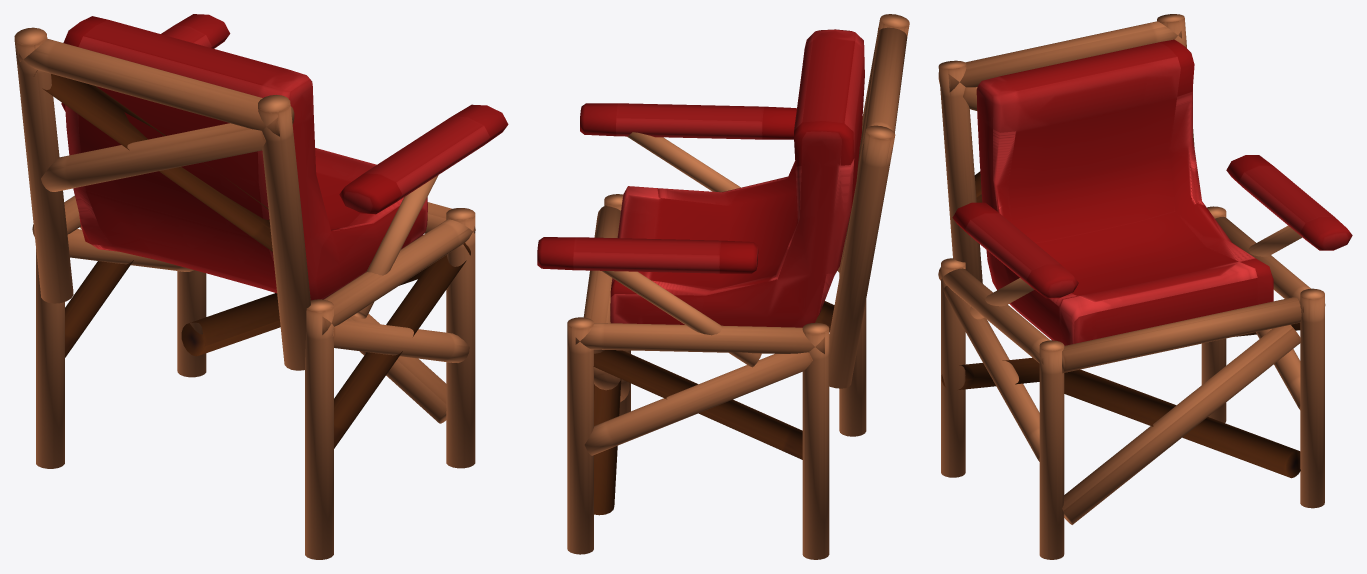
File: firewoodchairfinal.fbx
The picture shows the model from 3 angles, left to right: view 1: azimuth 30°, elevation 25°; view 2: azimuth 150°, elevation 25°; view 3: azimuth 270°, elevation 25°; orthographic projection. The views are drawn at different scales.
Parts seen in each view (by area): view 1: Cylinder.030, Cube.010; view 2: Cylinder.030, Cube.010; view 3: Cube.010, Cylinder.030.
Part boxes in pixels (left/top/right/bottom): Cylinder.030: left=14, top=27, right=475, bottom=559; Cube.010: left=61, top=14, right=508, bottom=300; Cylinder.030: left=567, top=14, right=909, bottom=559; Cube.010: left=537, top=29, right=864, bottom=327; Cube.010: left=952, top=39, right=1352, bottom=345; Cylinder.030: left=938, top=14, right=1325, bottom=559.
Bounding box in the file's own units: 358 × 382 × 367.
Materials: 2 (2 with a texture image).
